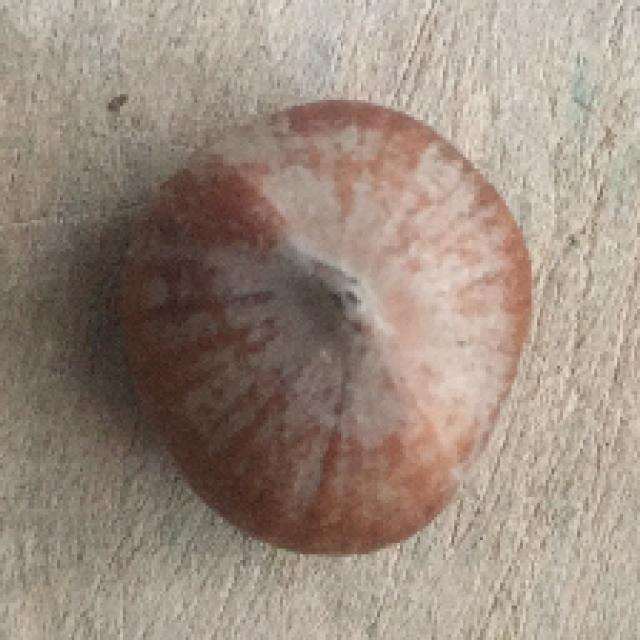qualityHazelnut: (129, 98, 536, 554)
